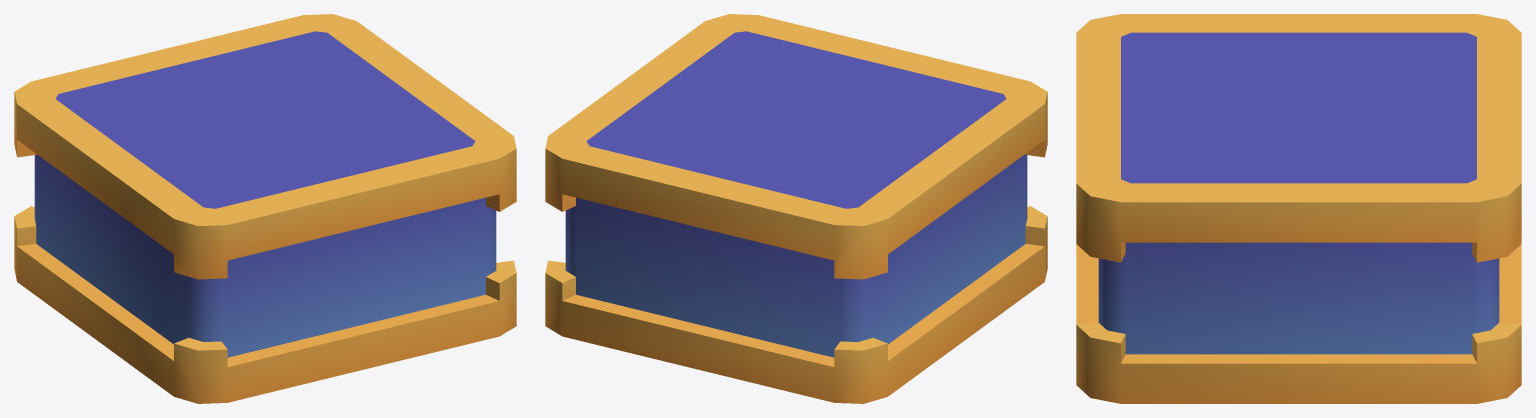
File: block_moving_blue.glb
3 views of the same model, side by side, from view 1: azimuth 30°, elevation 25°; view 2: azimuth 150°, elevation 25°; view 3: azimuth 270°, elevation 25° (orthographic). The views are drawn at different scales.
Visible parts, largest first — view 1: block-moving-blue; view 2: block-moving-blue; view 3: block-moving-blue.
Part boxes in pixels (<box>): block-moving-blue: <box>14,14,516,403</box>; block-moving-blue: <box>545,14,1047,403</box>; block-moving-blue: <box>1076,14,1521,403</box>.
Bounding box in the file's own units: 1 × 0.5 × 1.
Materials: 1 (1 with a texture image).
